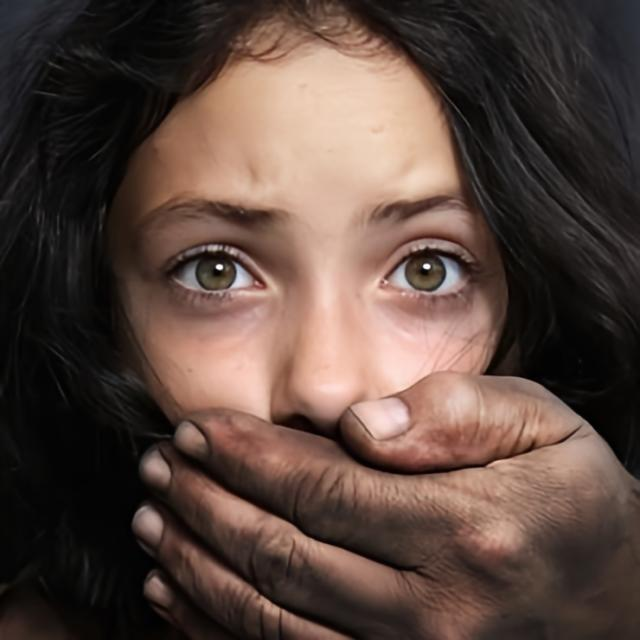Fear: (100, 1, 510, 572)
